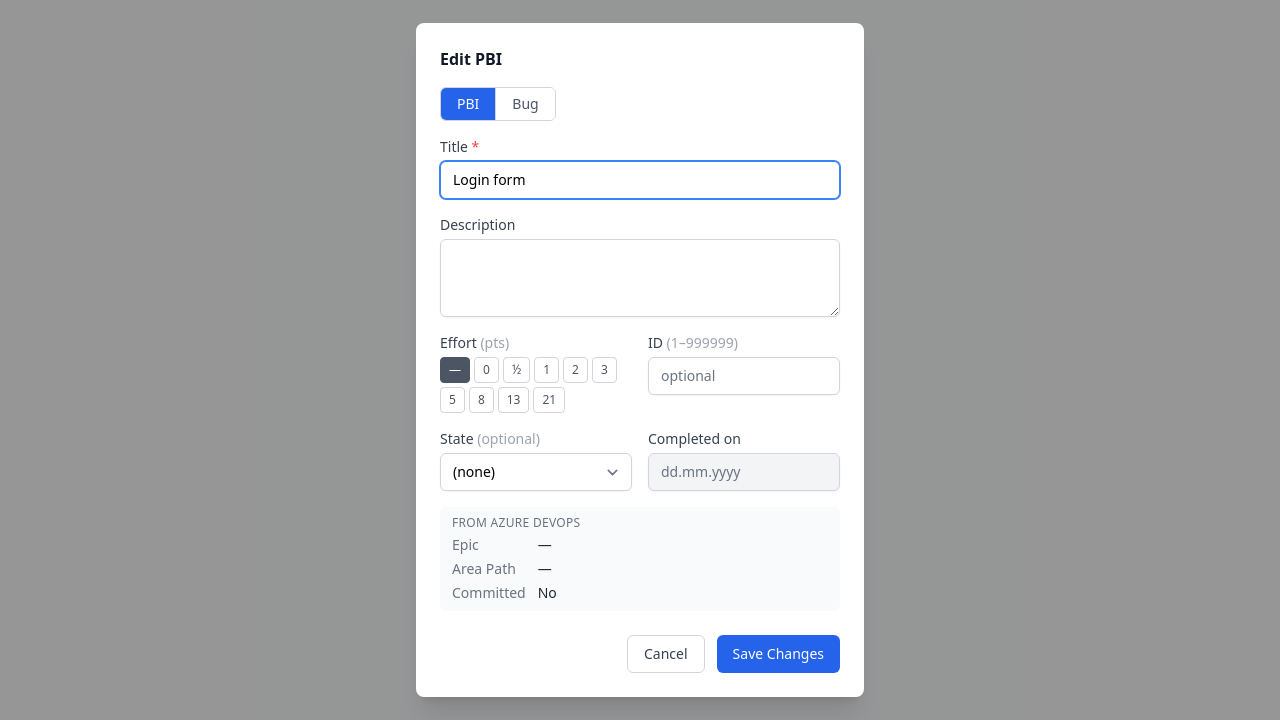
Test: PBIFormModal › shows duplicate-ID error on 409 response
Click the button "Save Changes": (778, 654) [717,635,840,673]
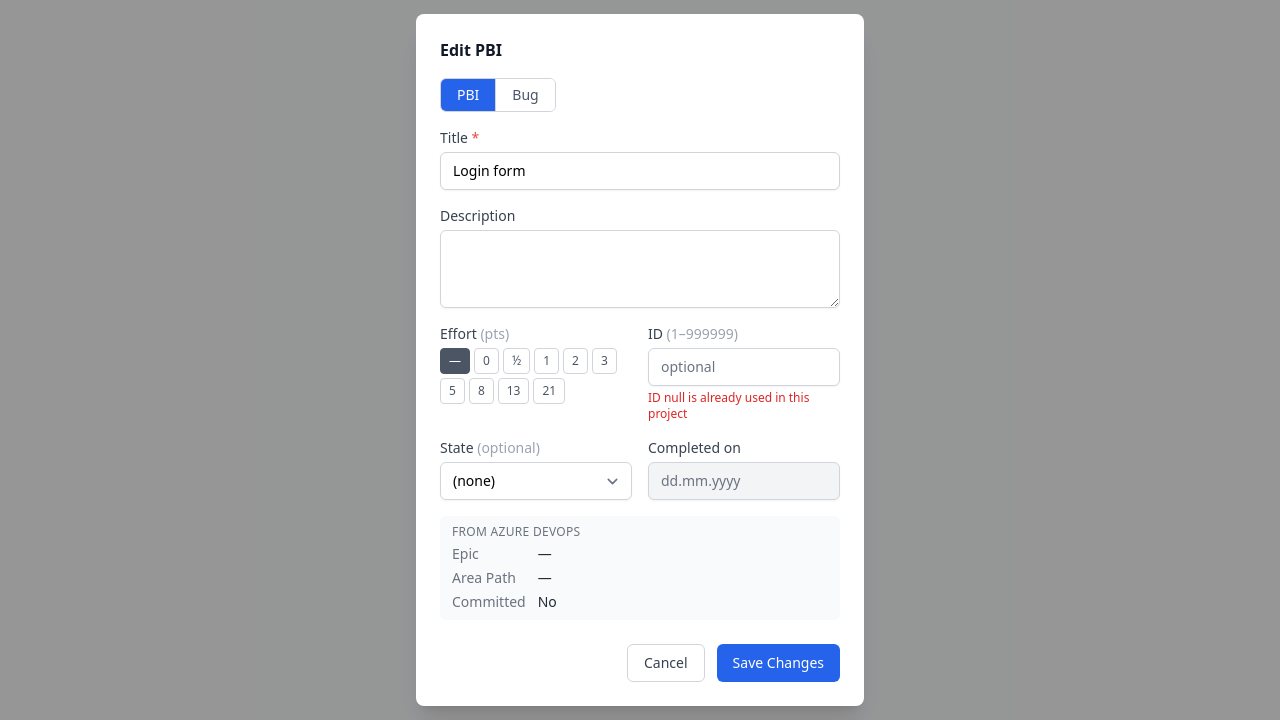
Expected: the text "ID null is already used in this project" is shown, [648,389,809,422]
